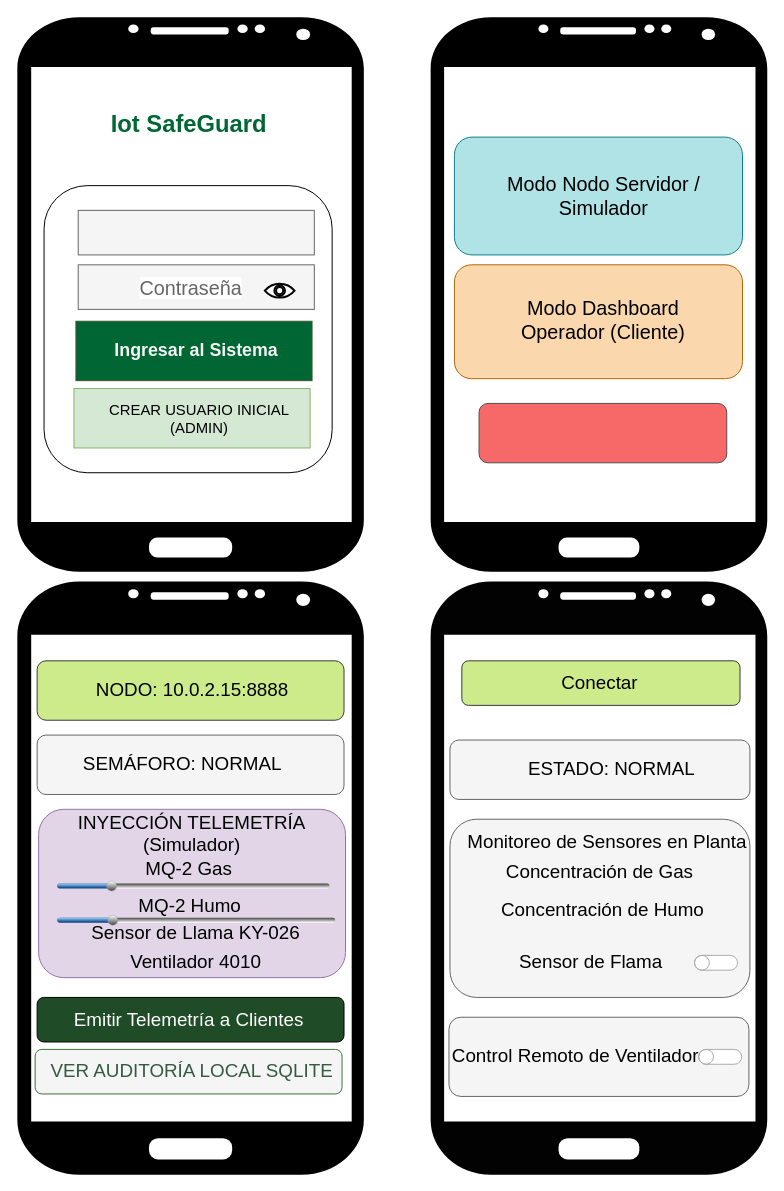
The diagram is 784 pixels wide and 1191 high, and some of its shapes have lost their labels. The shapes that lost their labels are listed below. From the top down, each one's centre as x and y in pixels, then its label:
At [195,232]: "Nombre".
At [602,432]: "CERRAR SESIÓN".
